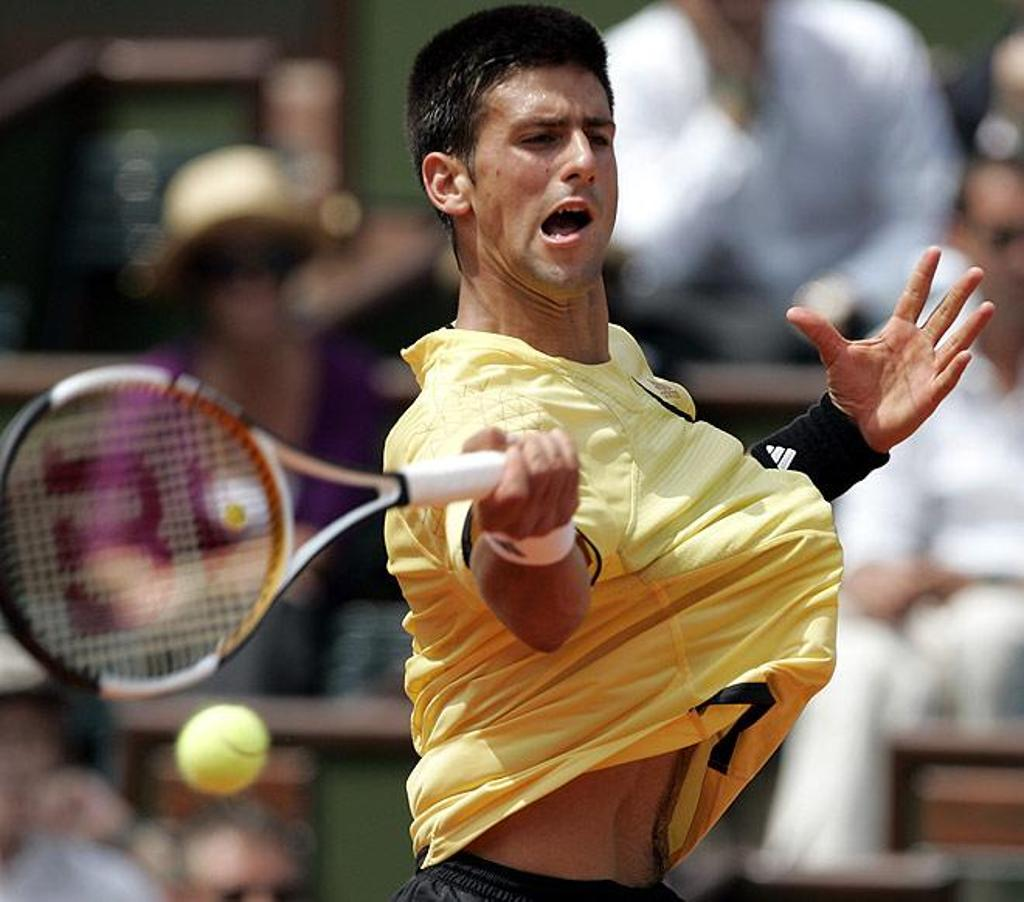face: (474, 66, 620, 292)
